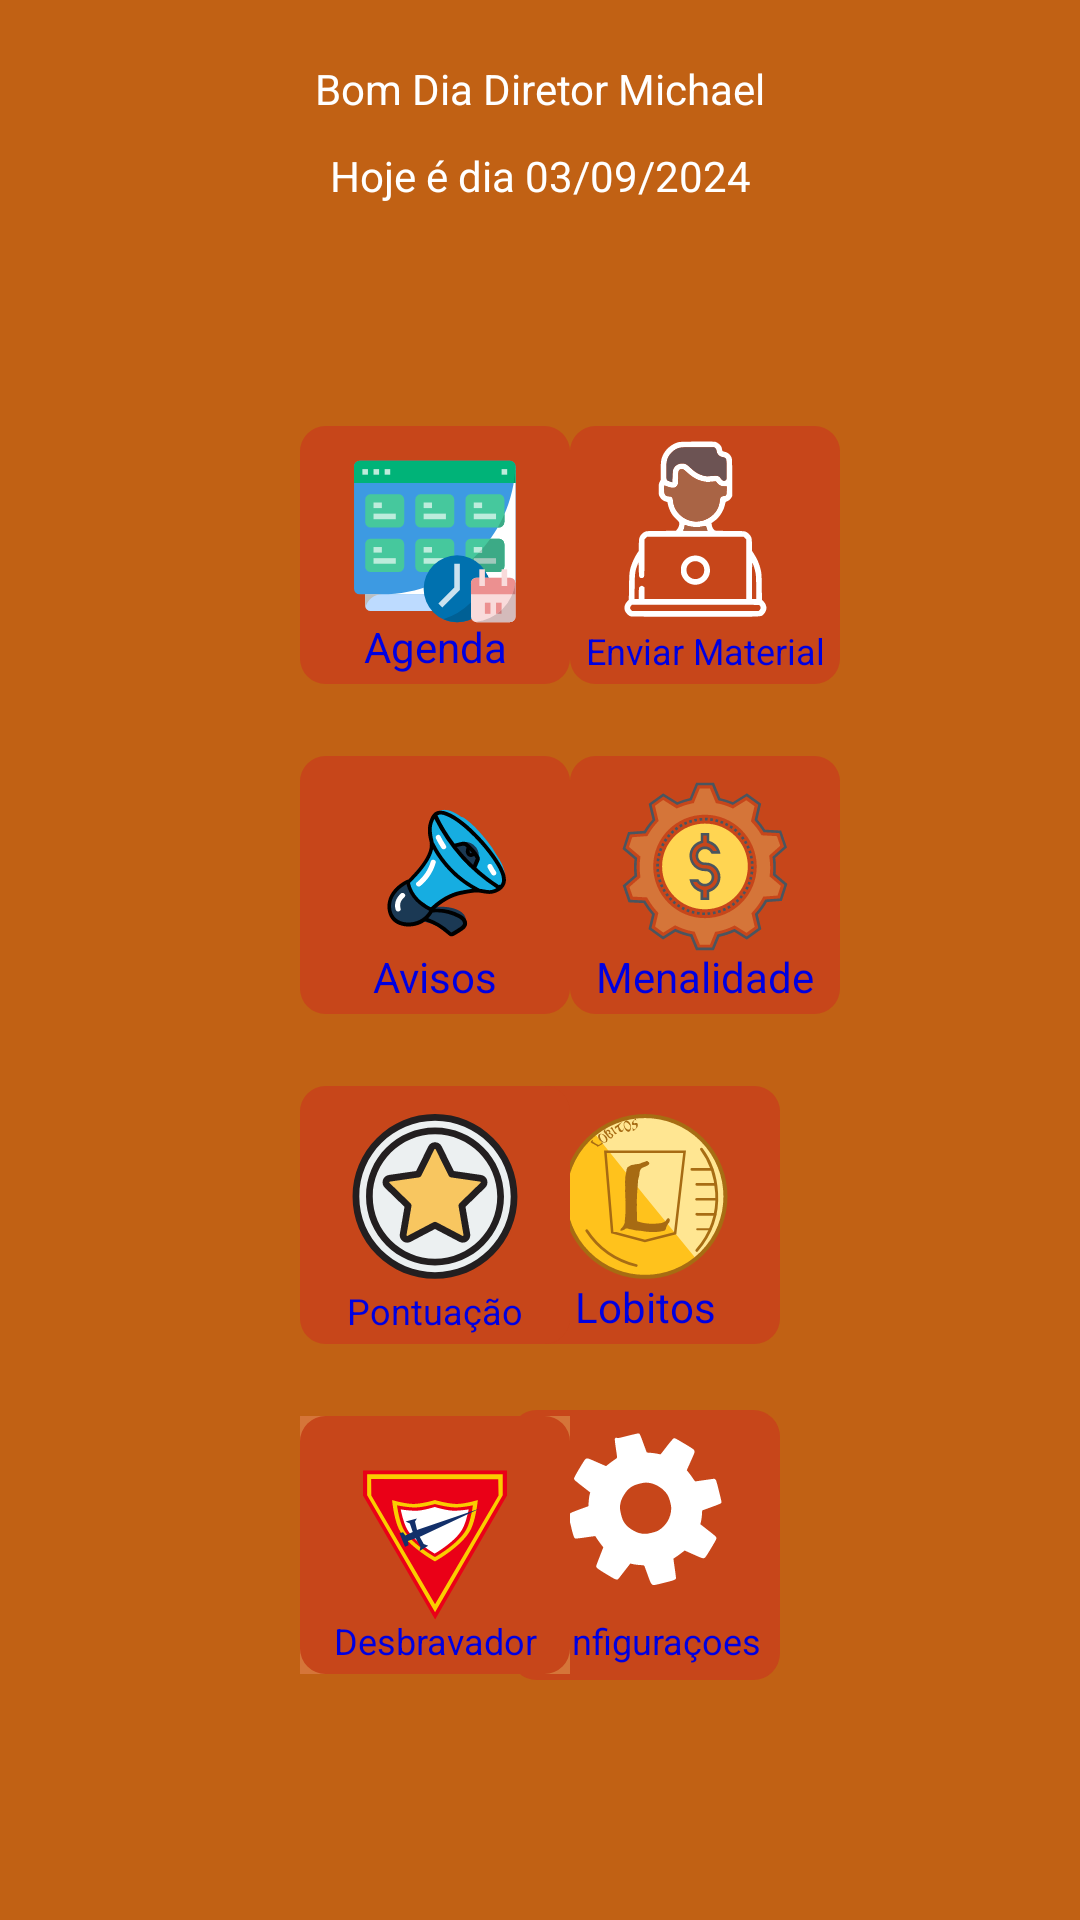

Named icons in this screenshot (1080×1920) and their centers, (x=x, y=y):
engrenagem: (x=645, y=1545)
